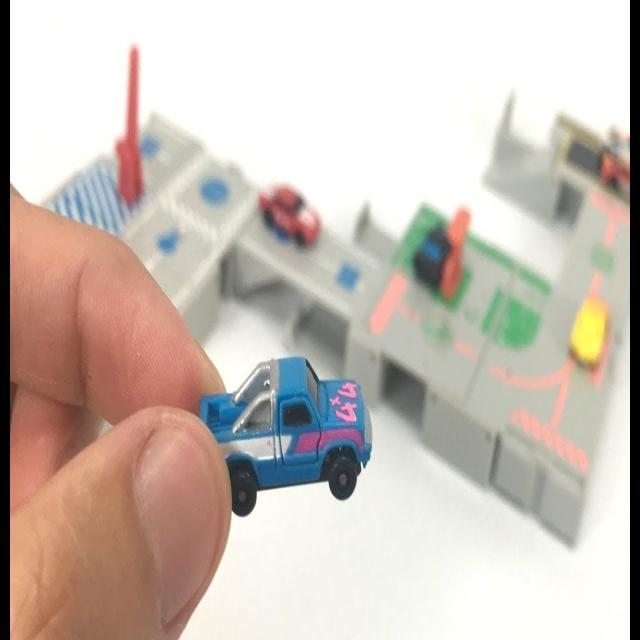Car: (198, 354, 372, 517)
